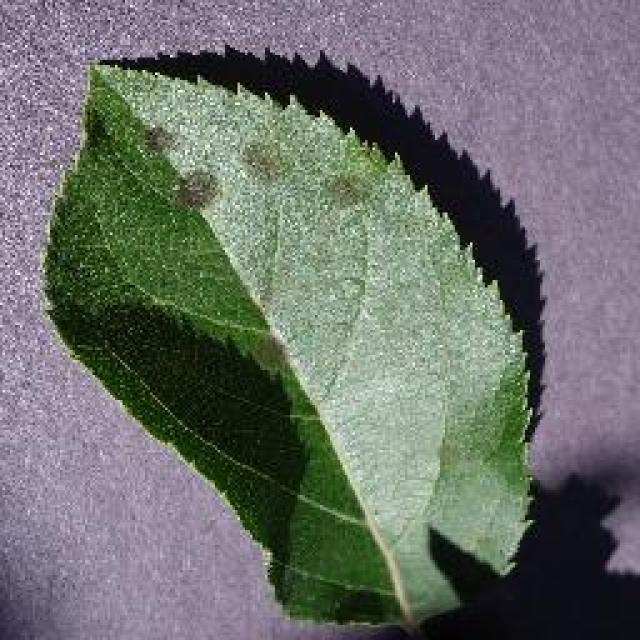apple scab disease: (37, 45, 545, 633)
